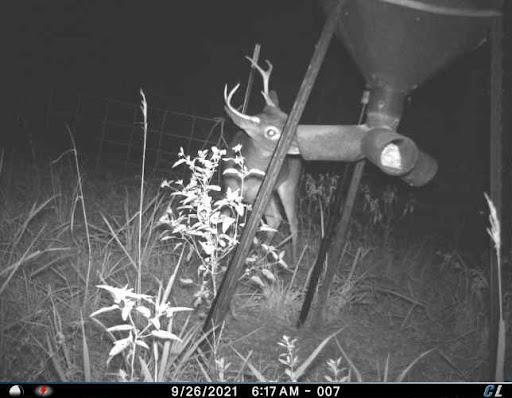Deer: (214, 49, 303, 295)
